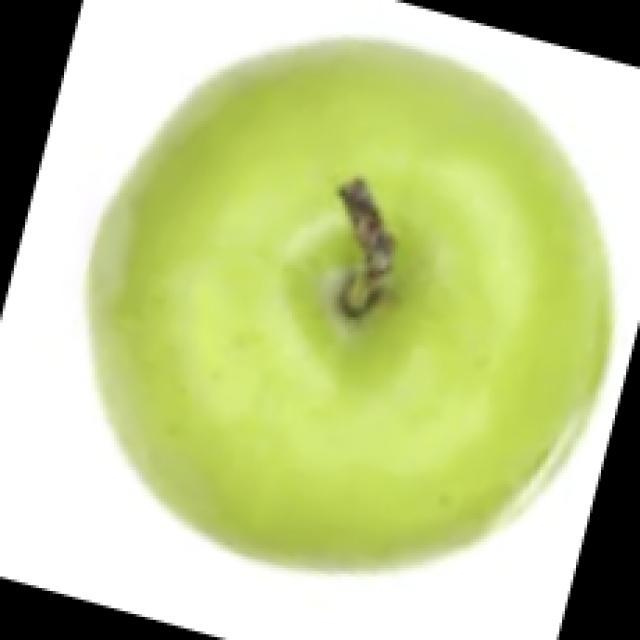Fresh Apple: (120, 42, 603, 550)
